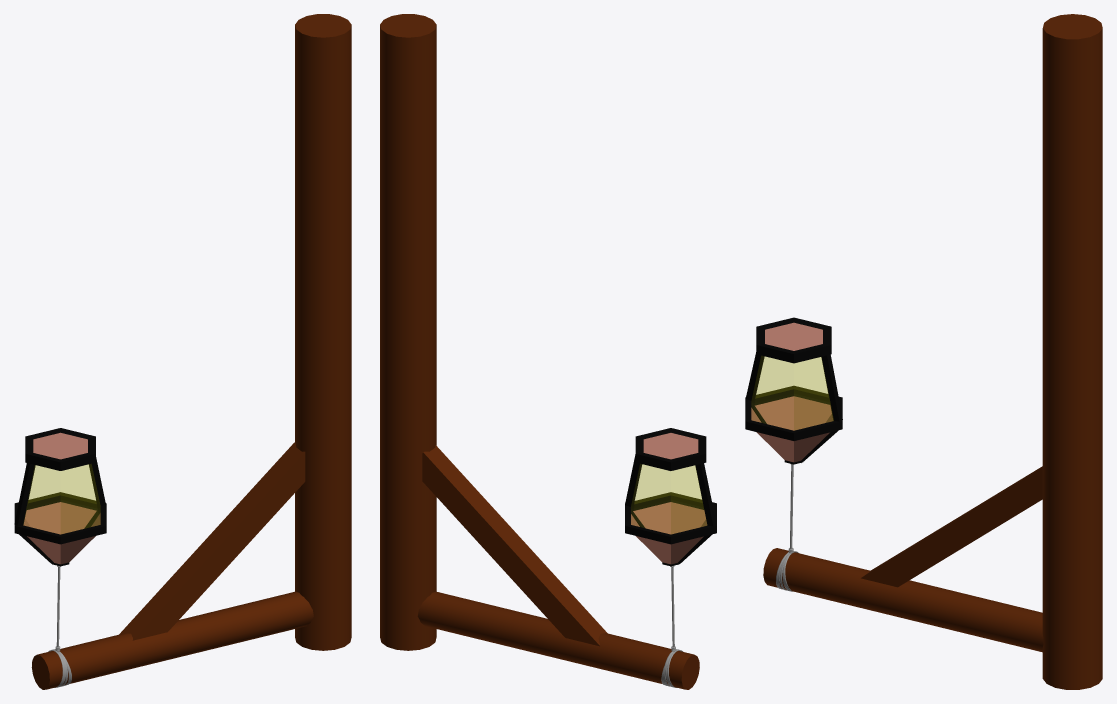
The model's file is Lamp.fbx.
3 renders of one model, left to right at view 1: azimuth 30°, elevation 25°; view 2: azimuth 150°, elevation 25°; view 3: azimuth 330°, elevation 25°, orthographic. The views are drawn at different scales.
Visible parts, largest first — view 1: polySurface17; view 2: polySurface17; view 3: polySurface17.
Boxes of the visible parts, x1,y1,x2,y2 form: polySurface17: (14, 14, 351, 689); polySurface17: (380, 14, 716, 689); polySurface17: (745, 14, 1102, 689).
Bounding box in the file's own units: 1.62 × 2.85 × 0.3869.
